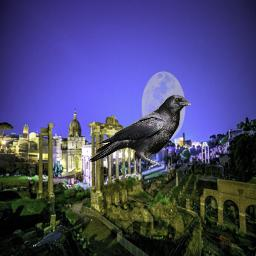Crow: (90, 94, 194, 179), (33, 225, 68, 250)
